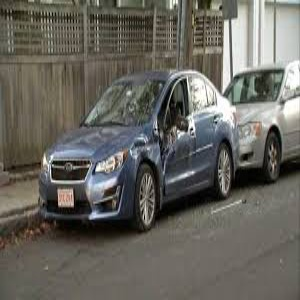door: (159, 133, 211, 196)
